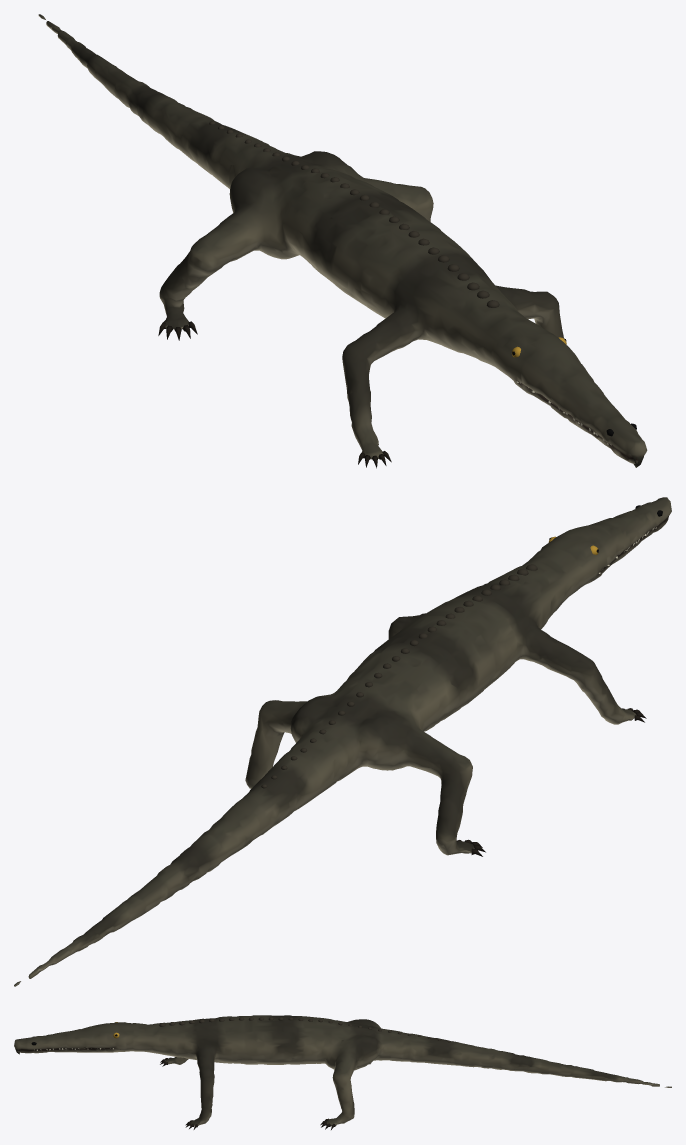
Rendered from Proterosuchus.fbx.
3 views of the same model, one above another, from view 1: azimuth 30°, elevation 25°; view 2: azimuth 150°, elevation 25°; view 3: azimuth 270°, elevation 25° (orthographic). The views are drawn at different scales.
Parts seen in each view (by area): view 1: Proterosuchus; view 2: Proterosuchus; view 3: Proterosuchus.
Part boxes in pixels (box(x1,y1,x2,y2)): Proterosuchus: box(38, 14, 647, 468); Proterosuchus: box(14, 497, 671, 986); Proterosuchus: box(14, 1015, 671, 1129).
Bounding box in the file's own units: 0.4947 × 0.2729 × 2.
